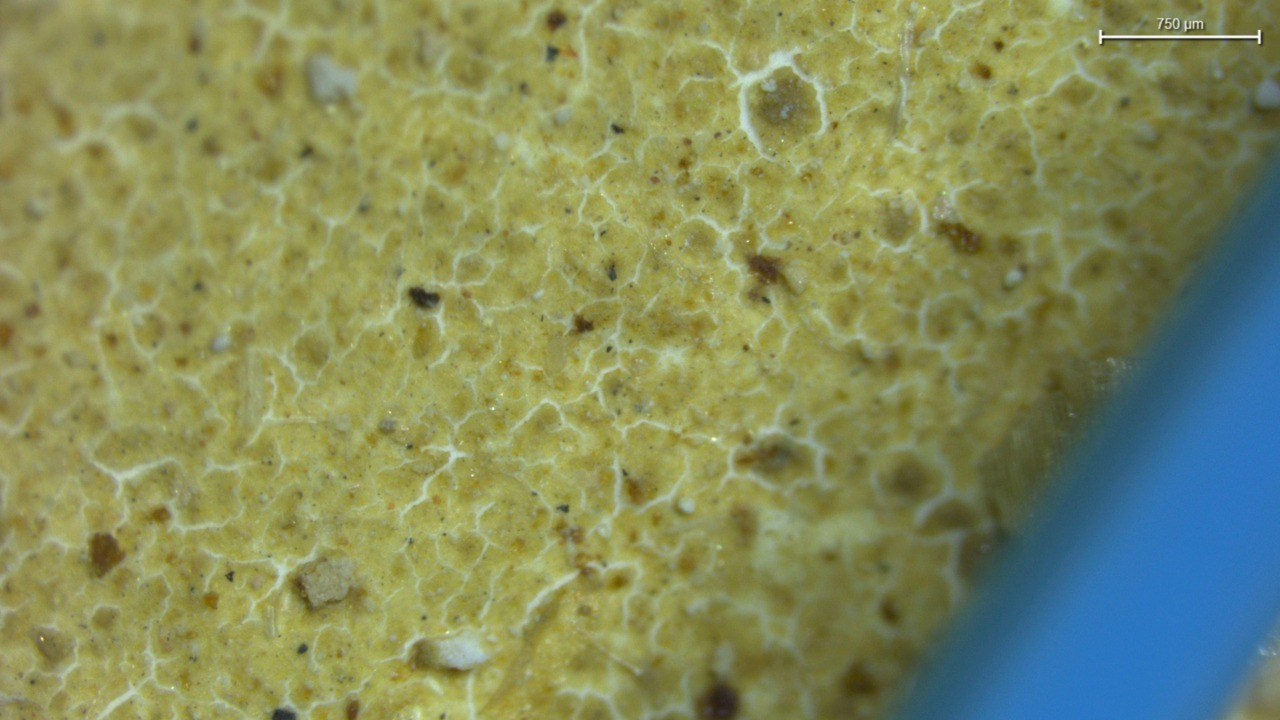microplastic_fragment: (411, 633, 490, 670), (298, 558, 353, 609)
